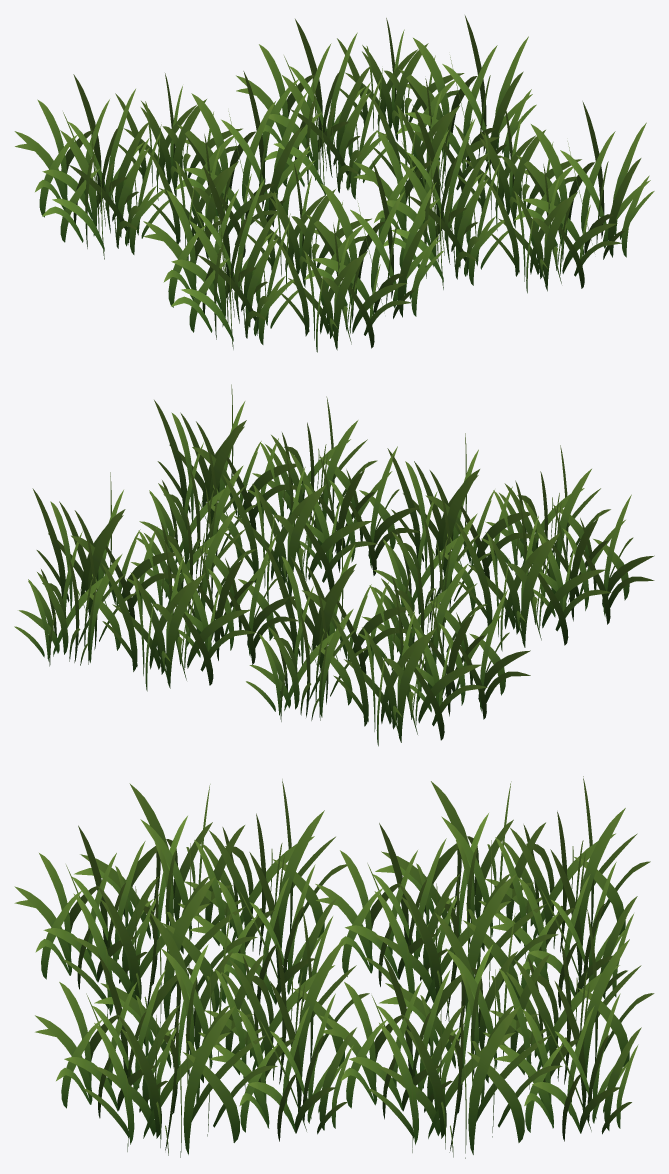
Rendered from StylizedGrassPatch.gltf.
The picture shows the model from 3 angles, top to bottom: view 1: azimuth 30°, elevation 25°; view 2: azimuth 150°, elevation 25°; view 3: azimuth 270°, elevation 25°; orthographic projection. The views are drawn at different scales.
Visible parts, largest first — view 1: default9_Material_0; view 2: default9_Material_0; view 3: default9_Material_0.
Part boxes in pixels (left/top/right/bottom): default9_Material_0: left=14, top=15, right=654, bottom=352; default9_Material_0: left=14, top=384, right=654, bottom=746; default9_Material_0: left=14, top=776, right=654, bottom=1158.
Size of the model in its own units: 0.00883 by 0.00216 by 0.0083.
1 material, 1 textured.
